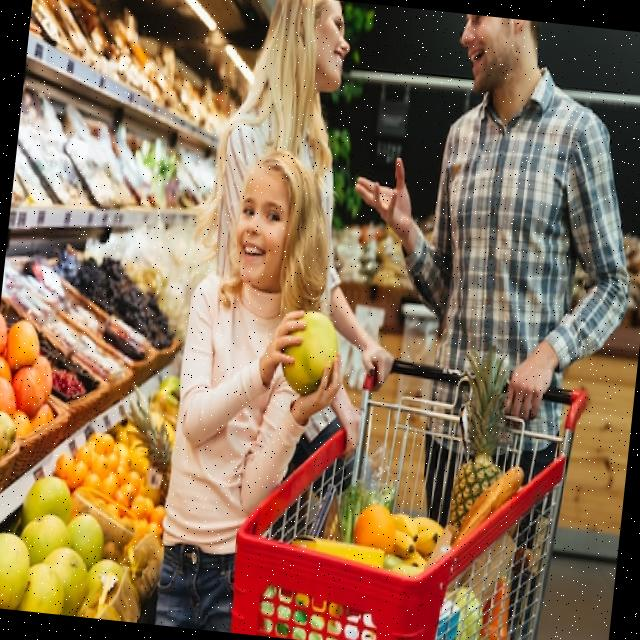Person: (320, 4, 640, 547), (187, 0, 430, 459), (151, 141, 366, 640)
